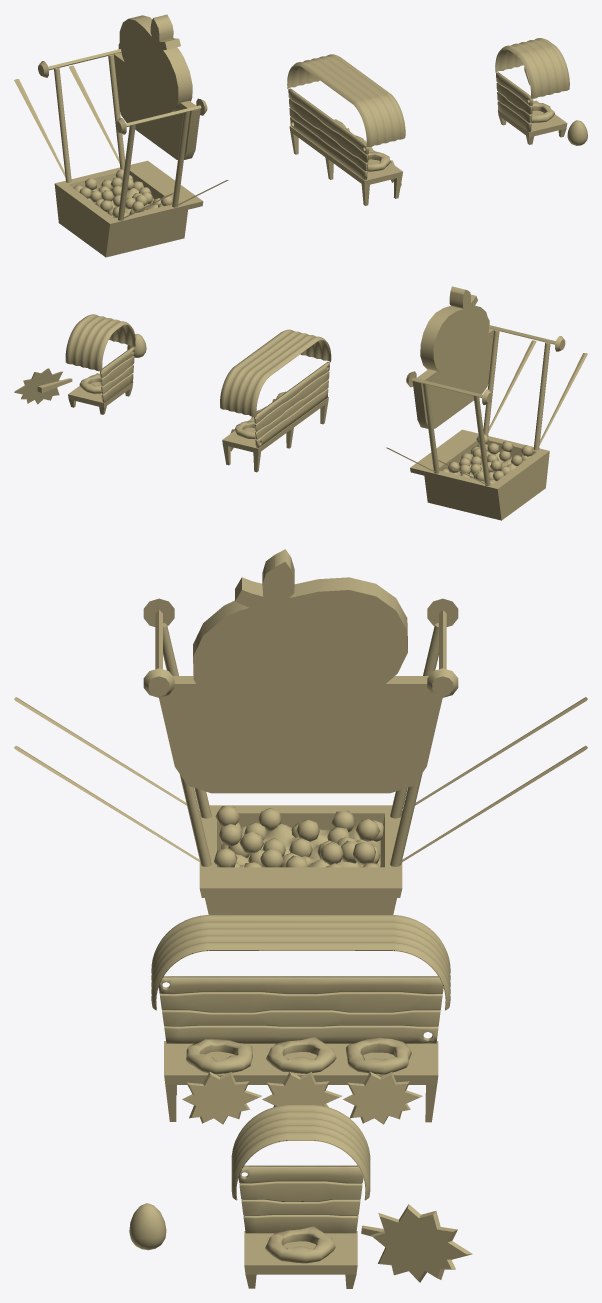
File: Tiendas y puesto de jugos para texturas.fbx
3 views of the same model, one above another, from view 1: azimuth 30°, elevation 25°; view 2: azimuth 150°, elevation 25°; view 3: azimuth 270°, elevation 25° (orthographic). The views are drawn at different scales.
Visible parts, largest first — view 1: polySurface62, polySurface48, polySurface17, polySurface47, polySurface25, polySurface24, polySurface27, polySurface20, polySurface21, polySurface58, polySurface22, polySurface55 (+14 smaller); view 2: polySurface62, polySurface48, polySurface17, polySurface47, polySurface25, polySurface24, pPlane2, polySurface27, polySurface21, polySurface20, polySurface58, polySurface22 (+11 smaller); view 3: polySurface48, polySurface47, polySurface17, polySurface62, polySurface24, polySurface25, polySurface21, polySurface20, polySurface58, polySurface22, pPlane2, polySurface19 (+16 smaller).
Boxes of the visible parts, x1,y1,x2,y2 form: polySurface62: [54, 164, 188, 257]; polySurface48: [119, 14, 192, 112]; polySurface17: [287, 54, 405, 146]; polySurface47: [113, 52, 200, 159]; polySurface25: [495, 38, 569, 98]; polySurface24: [289, 126, 402, 205]; polySurface27: [498, 100, 567, 144]; polySurface20: [288, 88, 369, 154]; polySurface21: [289, 98, 368, 162]; polySurface58: [133, 160, 203, 209]; polySurface22: [290, 117, 367, 180]; polySurface55: [54, 67, 71, 182]; polySurface62: [423, 433, 549, 520]; polySurface48: [420, 286, 488, 374]; polySurface17: [220, 329, 331, 416]; polySurface47: [412, 328, 494, 428]; polySurface25: [65, 314, 135, 371]; polySurface24: [222, 397, 328, 472]; pPlane2: [14, 368, 62, 404]; polySurface27: [68, 373, 133, 414]; polySurface21: [254, 371, 329, 431]; polySurface20: [254, 362, 329, 423]; polySurface58: [410, 429, 475, 475]; polySurface22: [255, 388, 328, 448]; polySurface48: [193, 549, 407, 719]; polySurface47: [159, 676, 442, 793]; polySurface17: [151, 915, 450, 1010]; polySurface62: [199, 805, 402, 914]; polySurface24: [164, 1041, 438, 1122]; polySurface25: [231, 1104, 370, 1200]; polySurface21: [159, 992, 442, 1012]; polySurface20: [158, 976, 443, 994]; polySurface58: [199, 875, 402, 897]; polySurface22: [164, 1025, 438, 1043]; pPlane2: [371, 1204, 472, 1282]; polySurface19: [162, 1010, 440, 1026].
Bounding box in the file's own units: 296 × 119 × 161.
